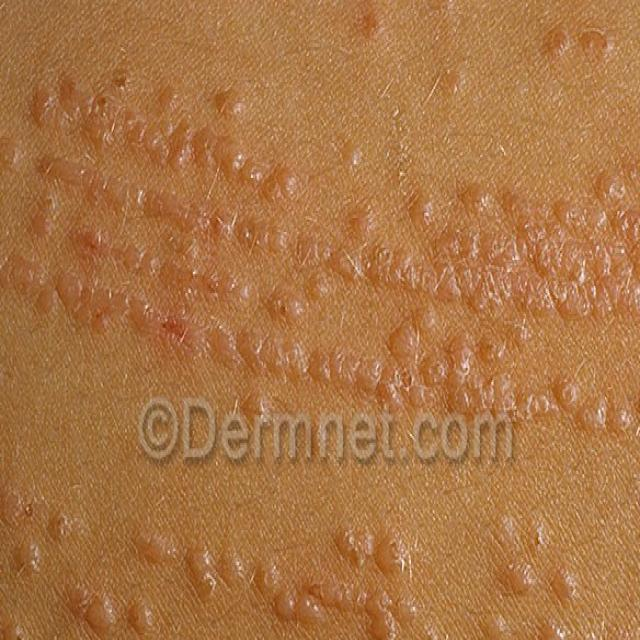Warts: (0, 26, 640, 433), (0, 488, 640, 640)
